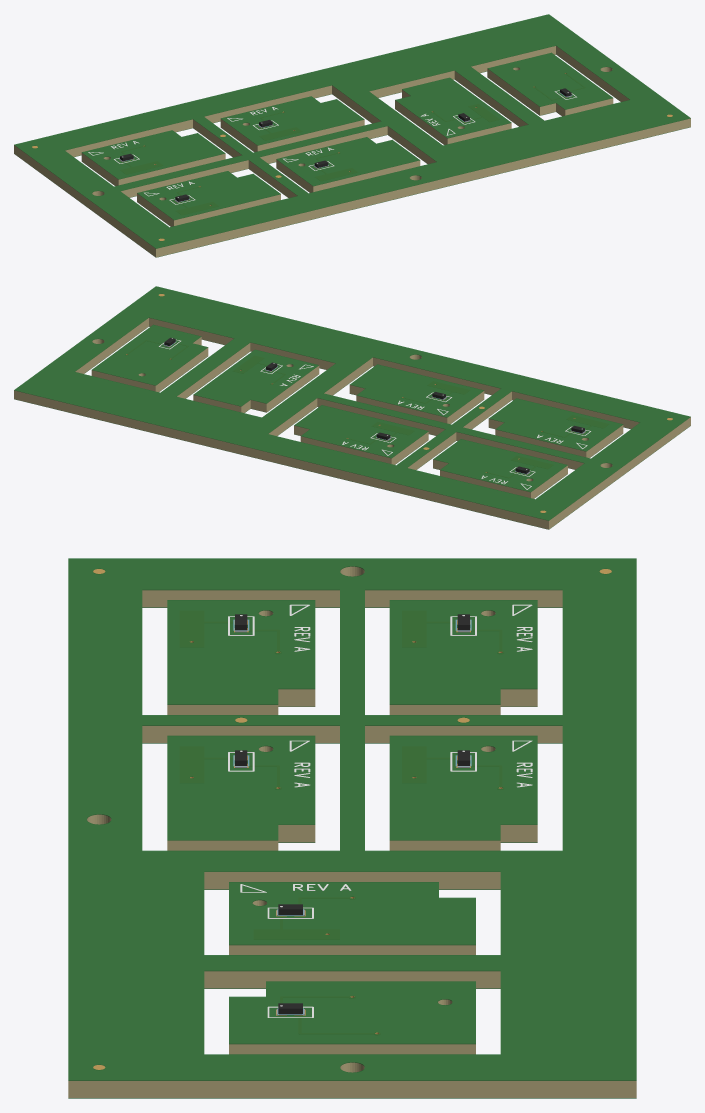
Rendered from panel.glb.
3 renders of one model, top to bottom at view 1: azimuth 30°, elevation 25°; view 2: azimuth 150°, elevation 25°; view 3: azimuth 270°, elevation 25°, orthographic. The views are drawn at different scales.
Visible parts, largest first — view 1: layer/@soldermask-top, layer/@core, layer/@soldermask-bottom, layer/TOP_SILK; view 2: layer/@soldermask-top, layer/@core, layer/@soldermask-bottom, layer/TOP_SILK; view 3: layer/@soldermask-top, layer/@core, layer/TOP_SILK, layer/@soldermask-bottom, layer/TOP.
Boxes of the visible parts, x1=… form: layer/@soldermask-top: x1=14, y1=14, x2=690, y2=248; layer/@core: x1=14, y1=15, x2=690, y2=257; layer/@soldermask-bottom: x1=14, y1=54, x2=690, y2=257; layer/TOP_SILK: x1=88, y1=90, x2=576, y2=204; layer/@soldermask-top: x1=14, y1=286, x2=690, y2=520; layer/@core: x1=14, y1=288, x2=690, y2=529; layer/@soldermask-bottom: x1=14, y1=326, x2=690, y2=529; layer/TOP_SILK: x1=159, y1=339, x2=590, y2=489; layer/@soldermask-top: x1=68, y1=558, x2=636, y2=1080; layer/@core: x1=68, y1=559, x2=636, y2=1097; layer/TOP_SILK: x1=228, y1=604, x2=532, y2=1017; layer/@soldermask-bottom: x1=68, y1=607, x2=636, y2=1098; layer/TOP: x1=93, y1=569, x2=611, y2=1069.
Size of the model in its own units: 0.1 by 0.00284 by 0.046.
